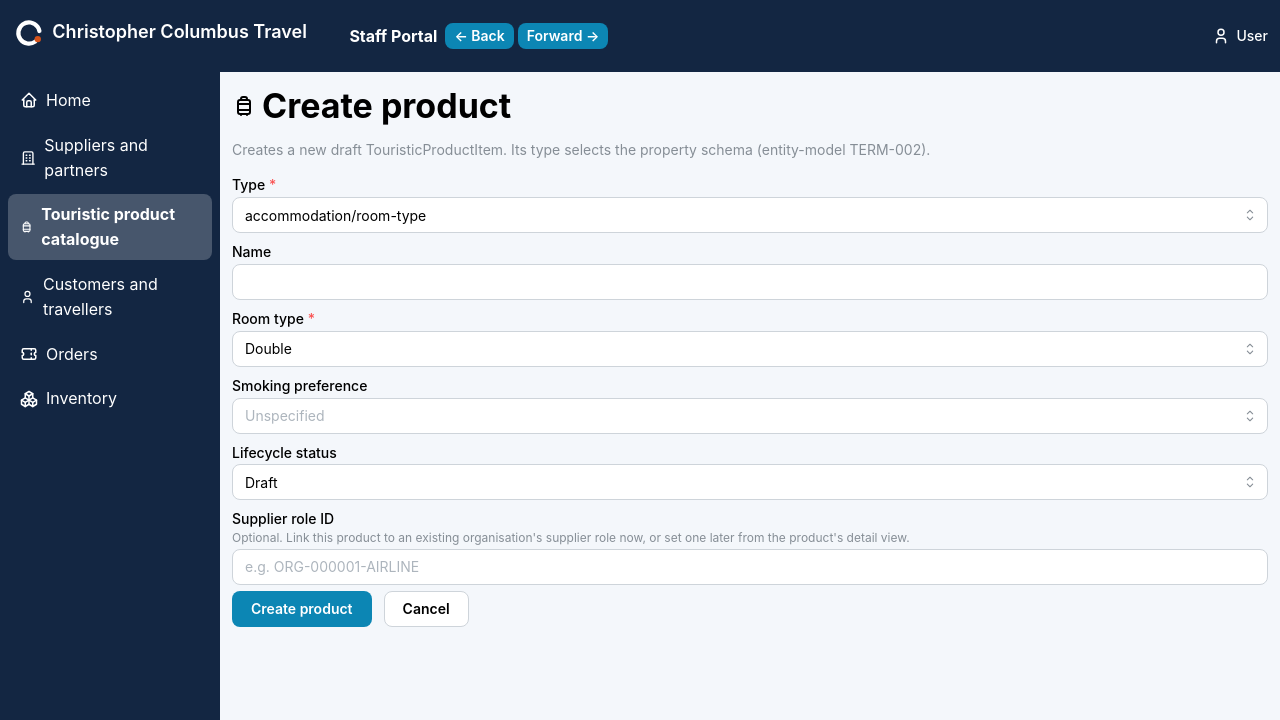
Test case: ProductCreateRoute (VIEW-S-003 create flow, issue #31 phase 2) › offers a retry when the product is created but the supplier link fails
Click the field labelled "Type *".
click(750, 215)  # box x1=232 y1=197 x2=1268 y2=233
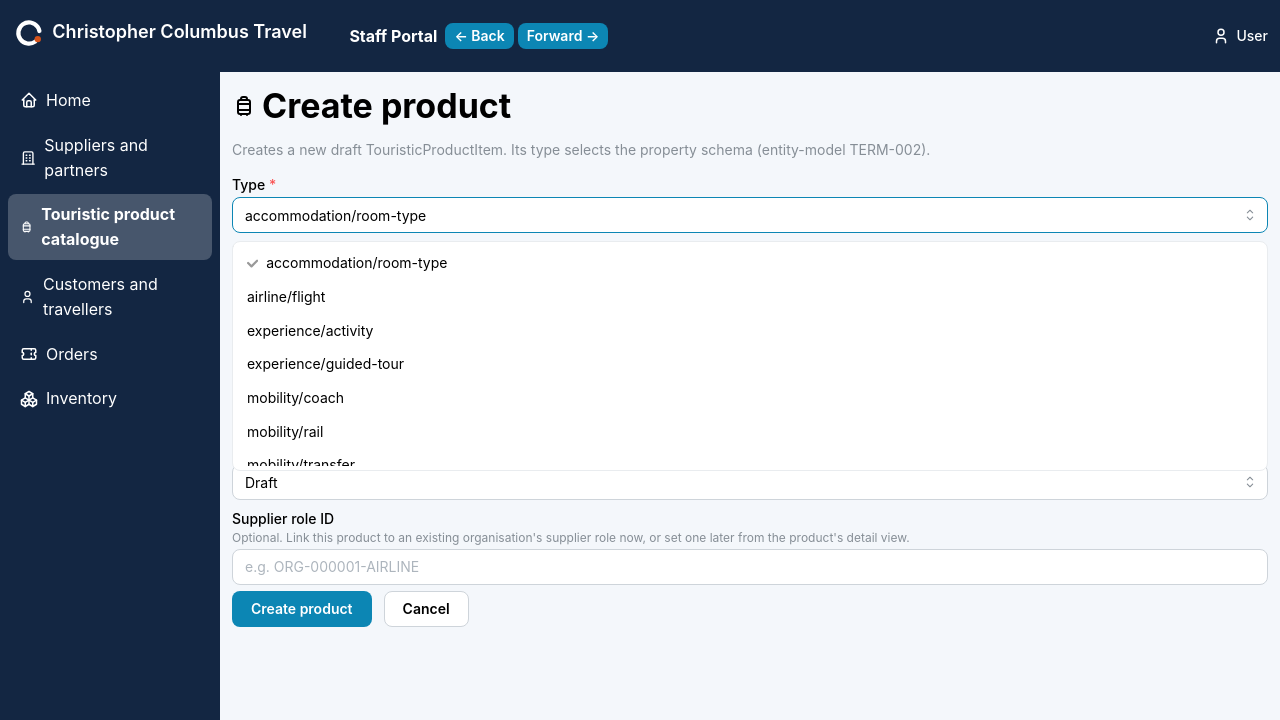
Click the option "mobility/transfer".
click(301, 465)  # box x1=247 y1=456 x2=355 y2=473
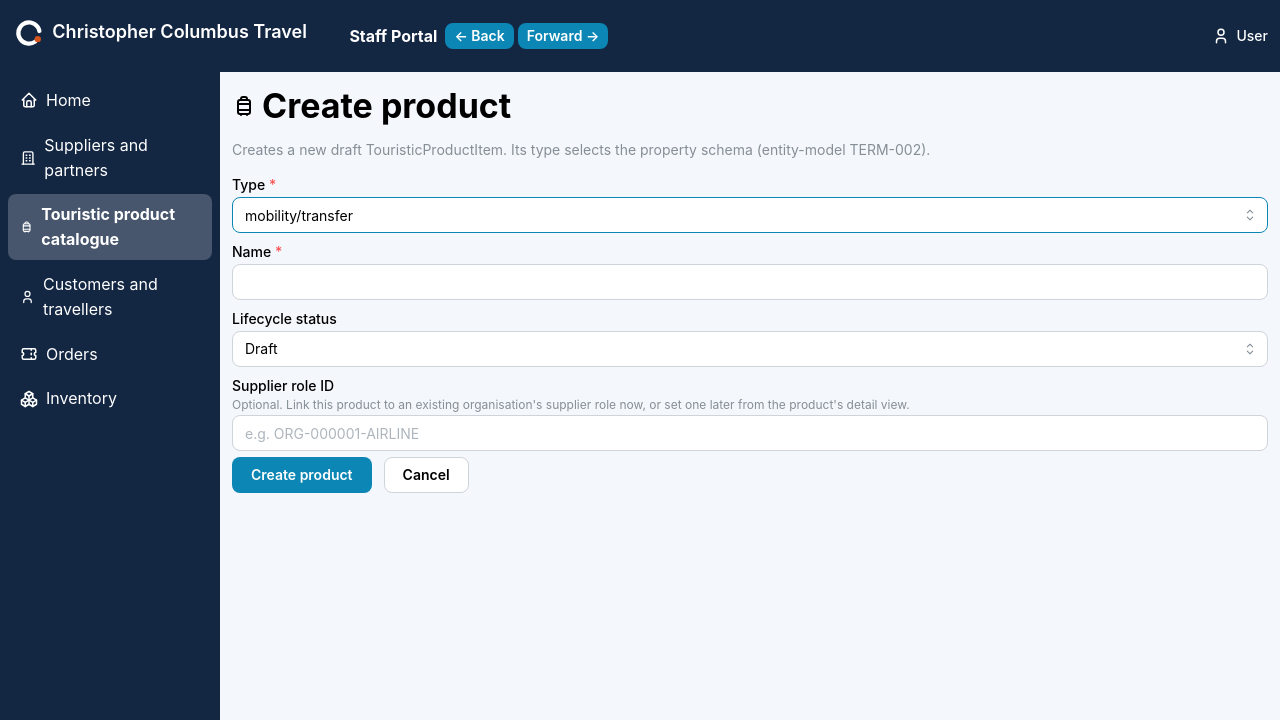
Type "Airport transfer" into the field labelled "Name *".
click(750, 282); type("Airport transfer")  # box x1=232 y1=264 x2=1268 y2=300
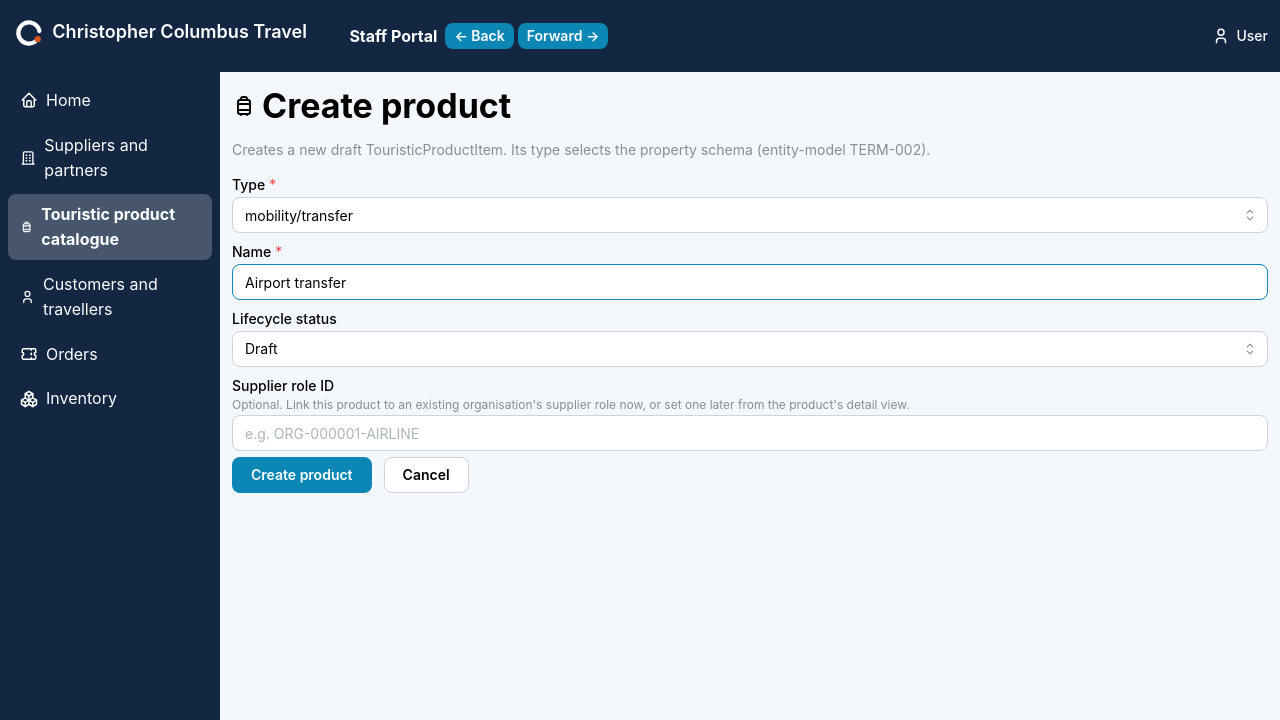
Type "MISSING-ROLE" into the field labelled "Supplier role ID".
click(750, 433); type("MISSING-ROLE")  # box x1=232 y1=415 x2=1268 y2=451
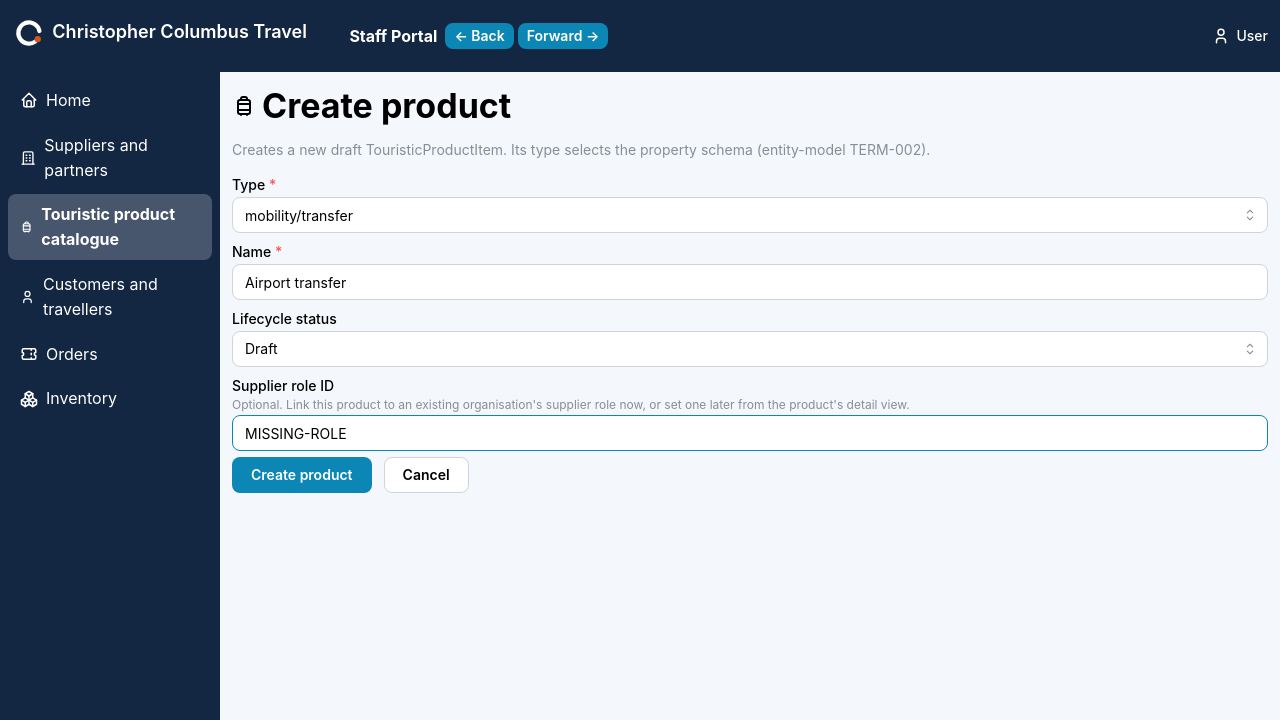
Click the button "Create product".
click(302, 475)  # box x1=232 y1=457 x2=372 y2=493
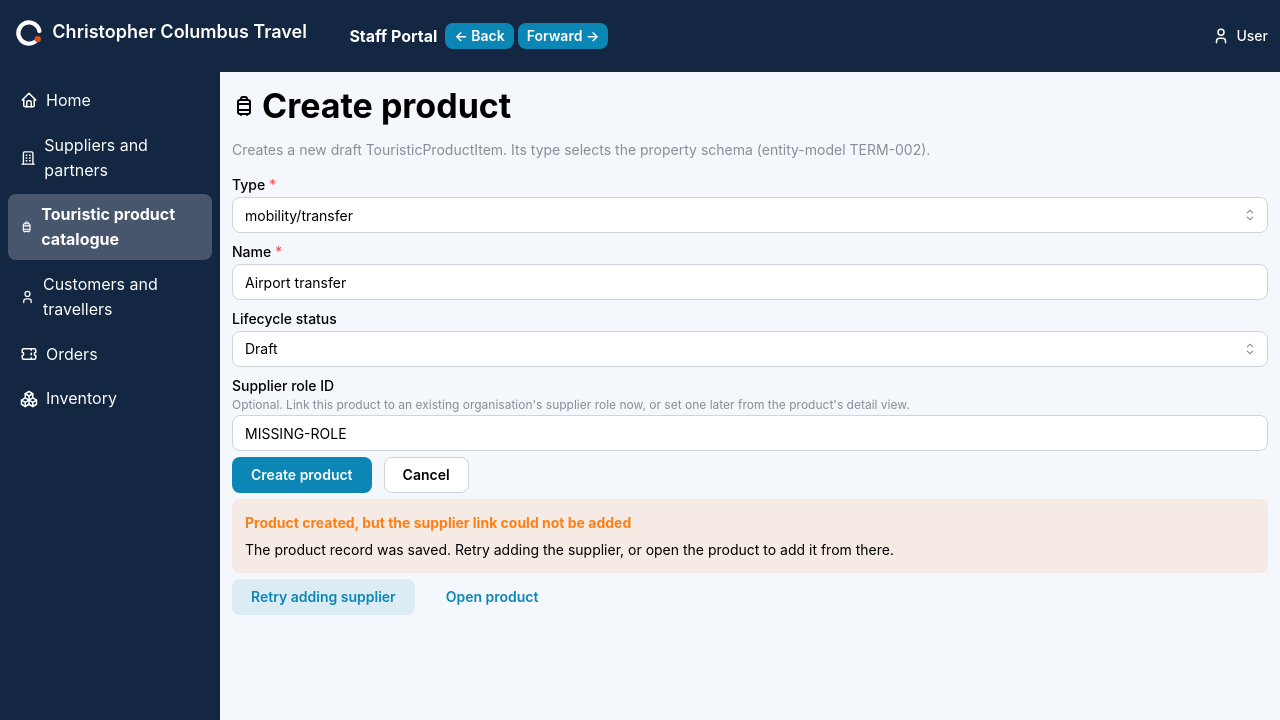
Result: the text "Product created, but the supplier link could not be added" is shown at x1=245 y1=512 x2=631 y2=534
